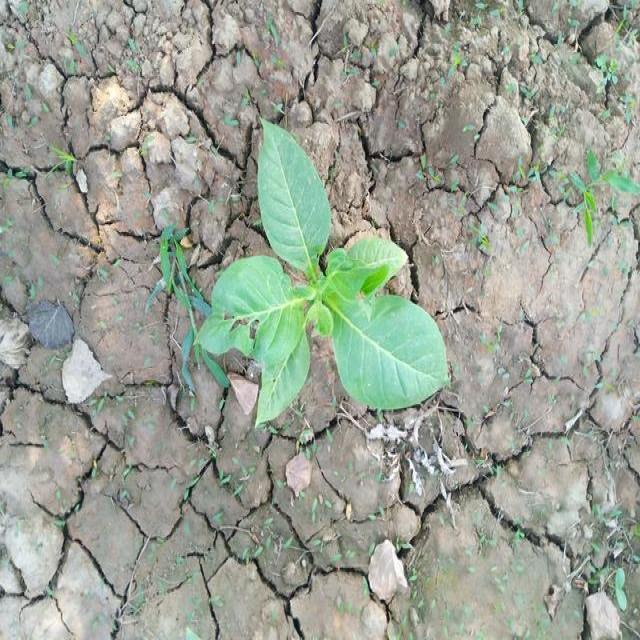crop: (202, 130, 454, 429)
